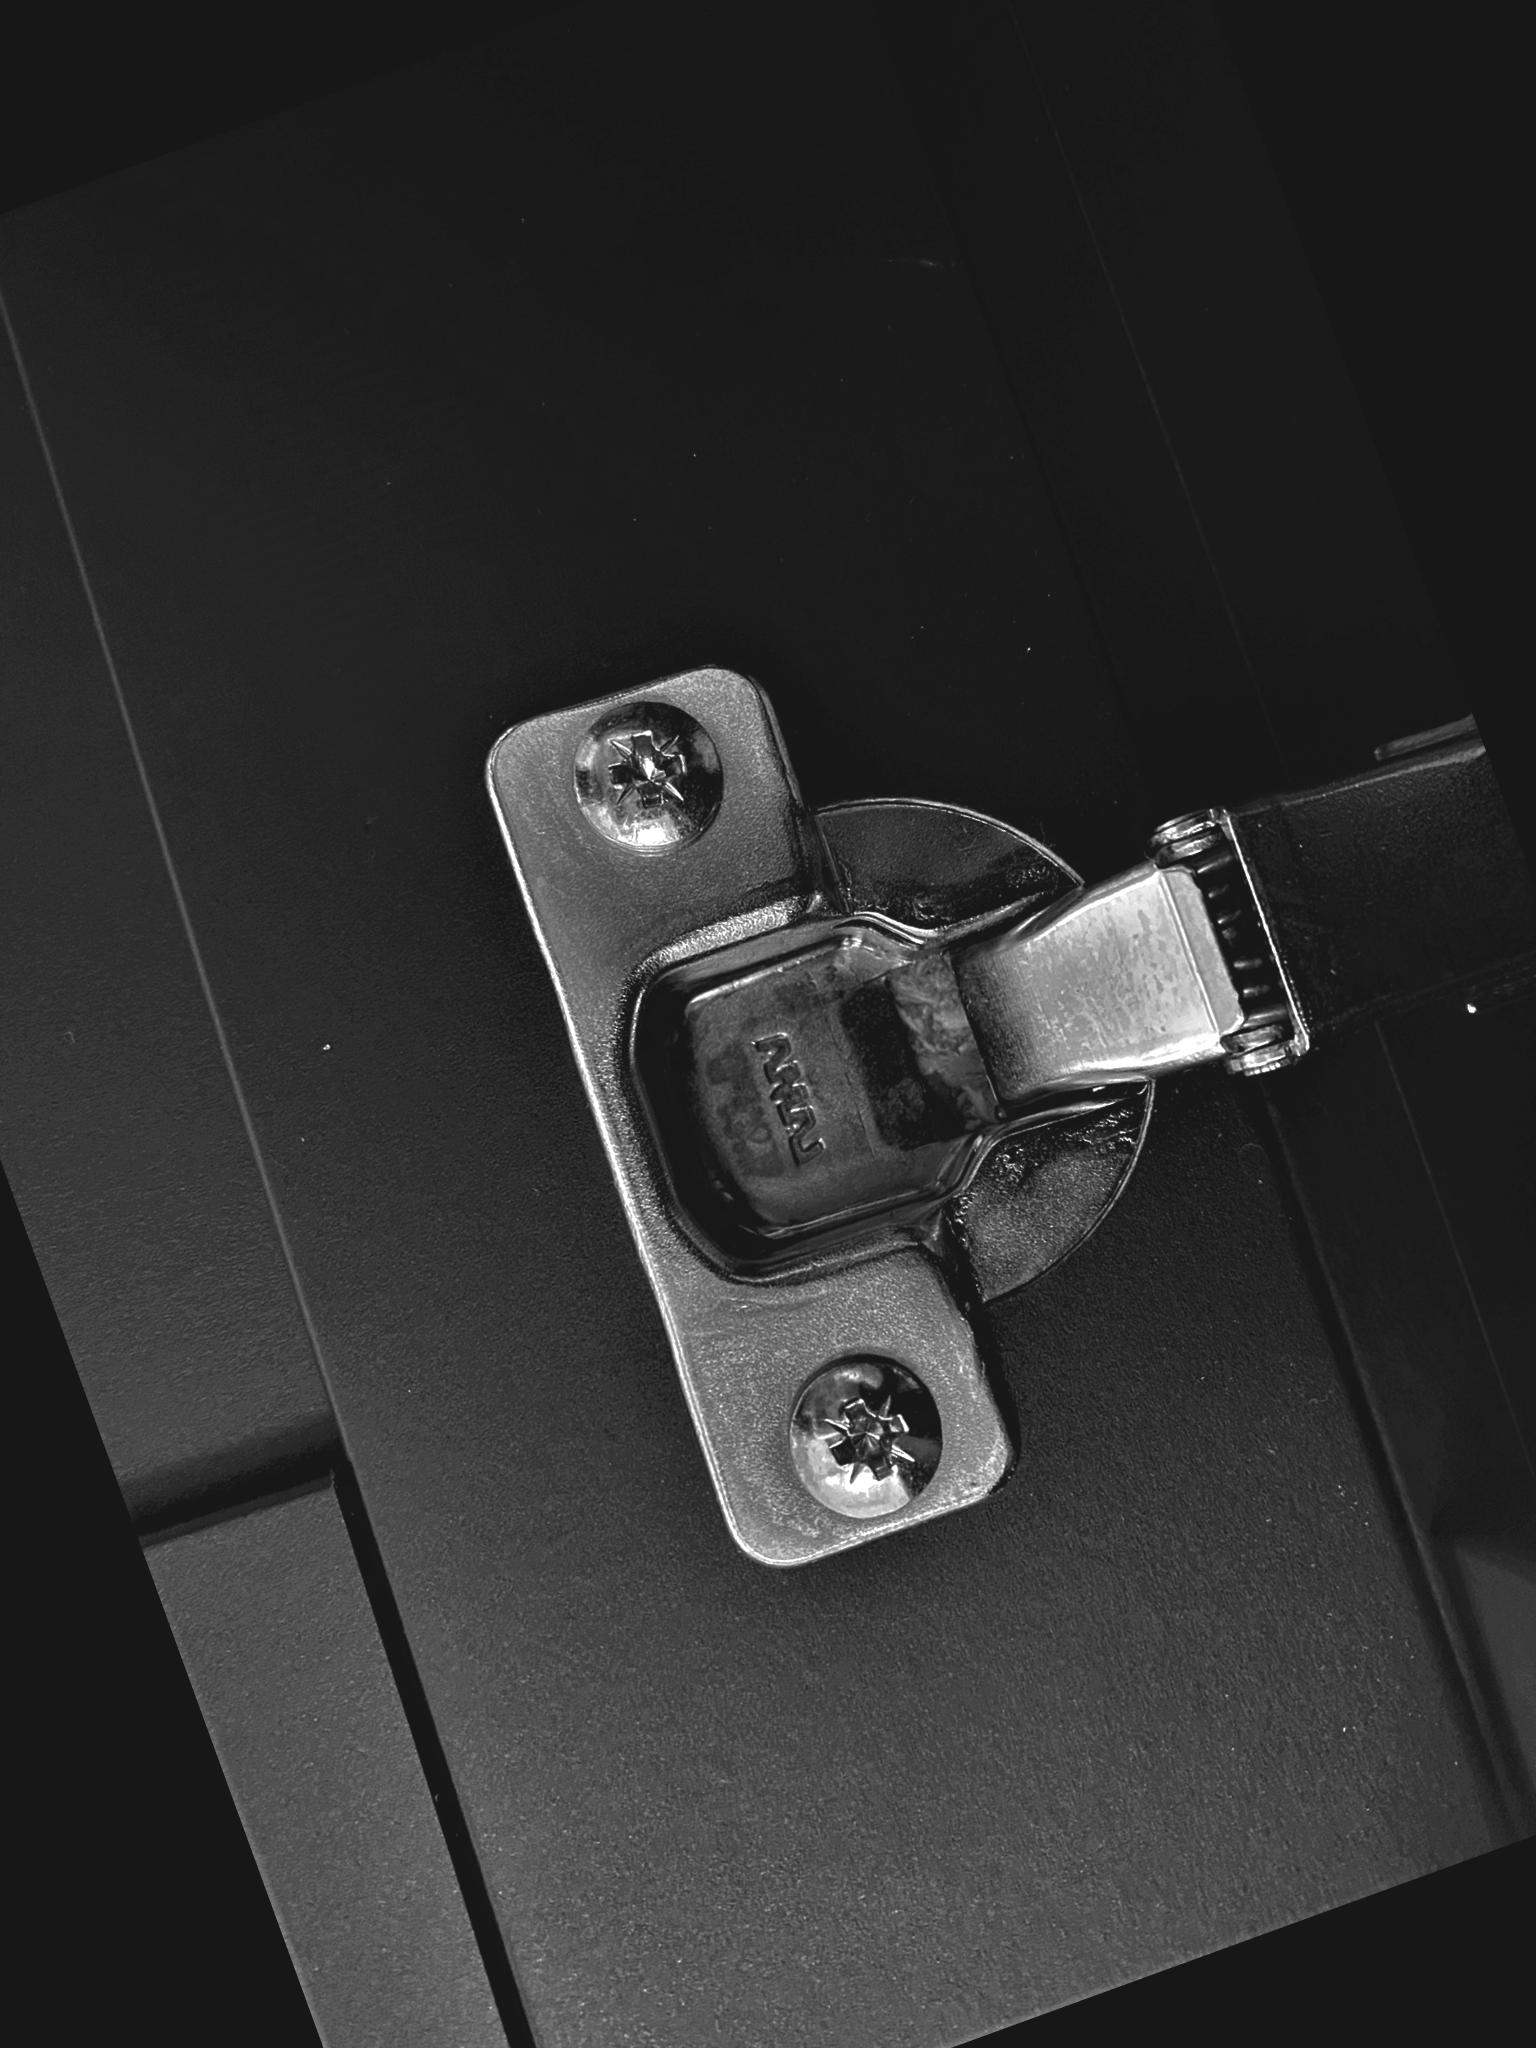philips-PZ: (760, 1326, 971, 1540), (552, 677, 750, 877)
